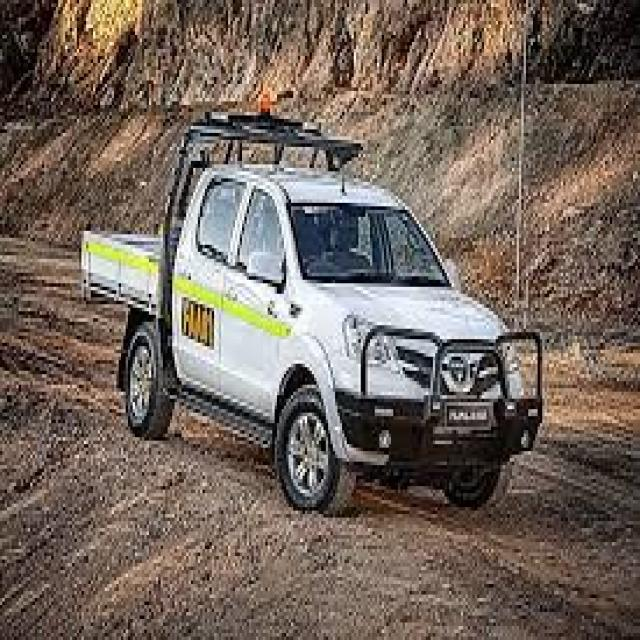light_vehicle: (68, 105, 544, 511)
